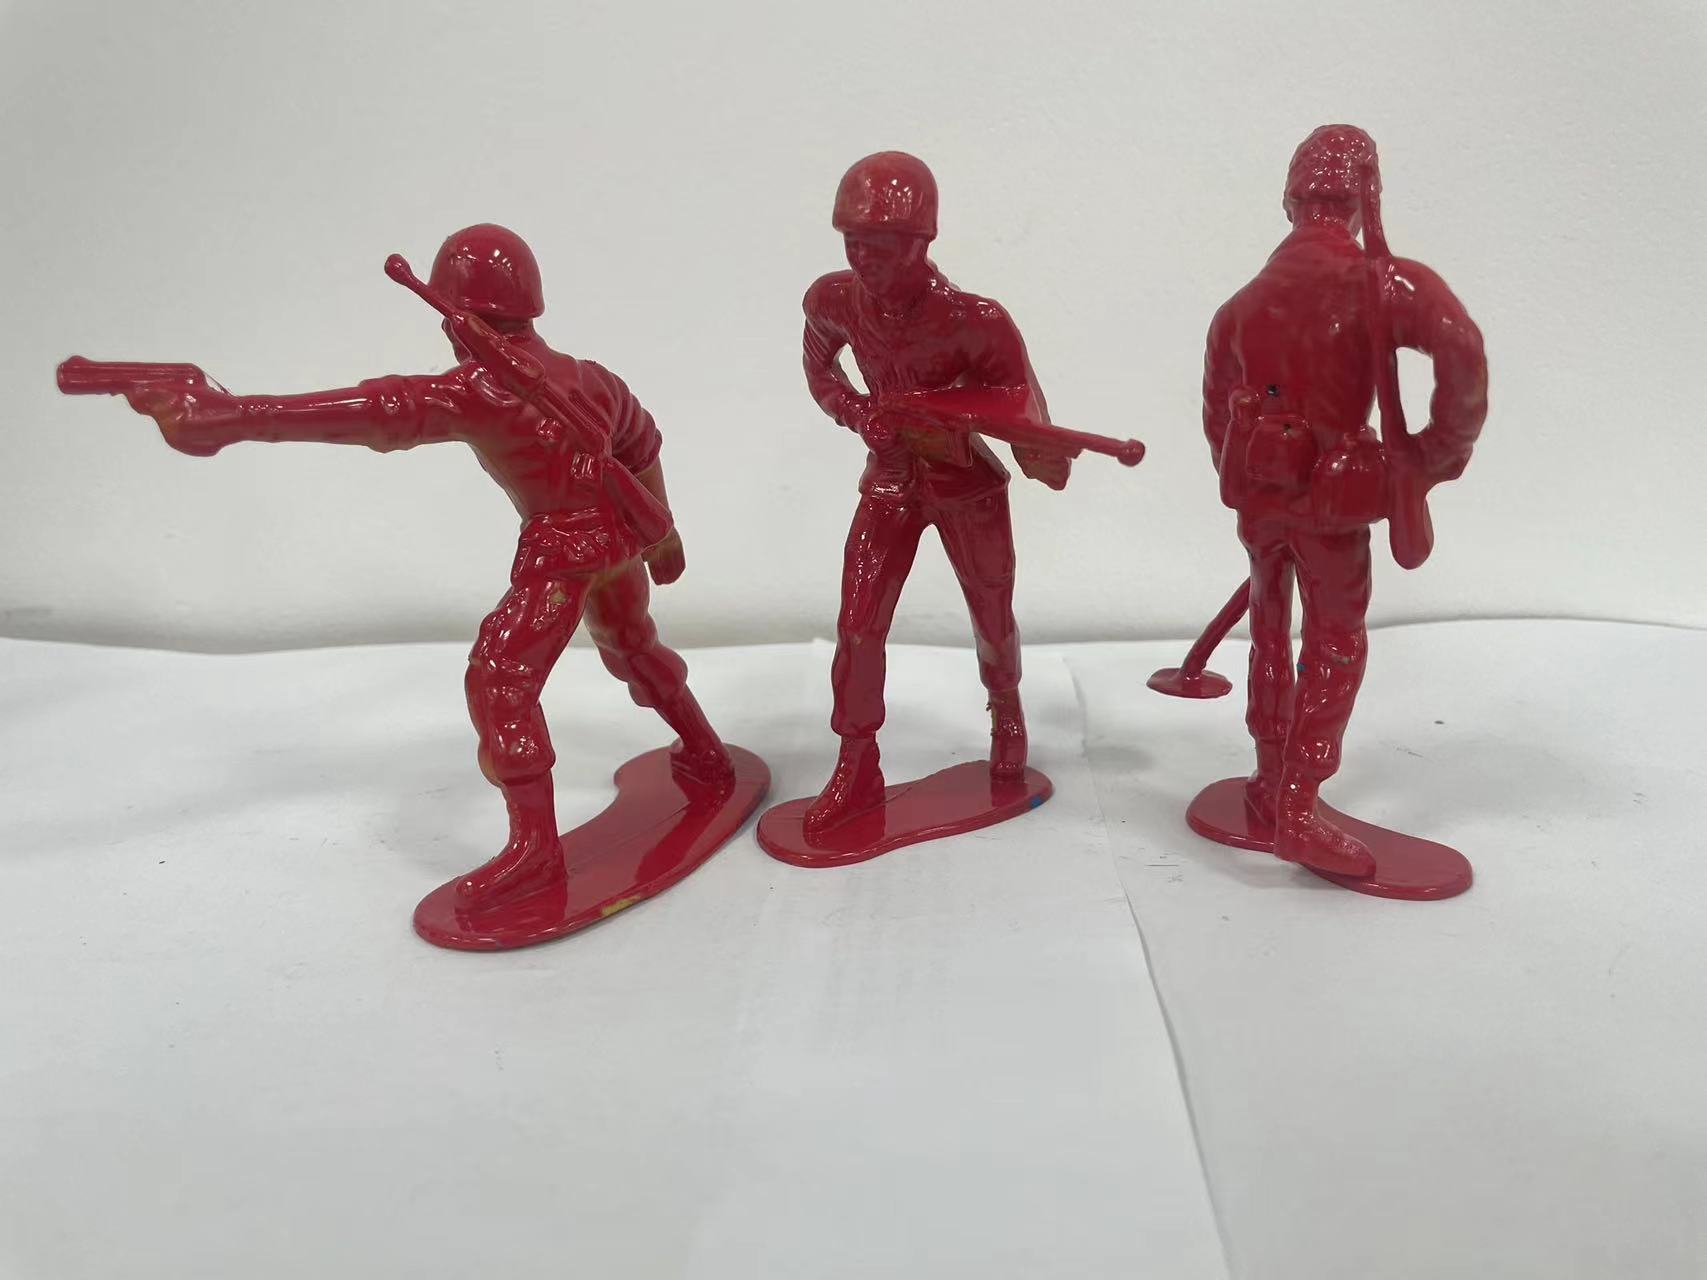red: (43, 187, 766, 1004), (1130, 79, 1544, 972), (730, 116, 1128, 951)
